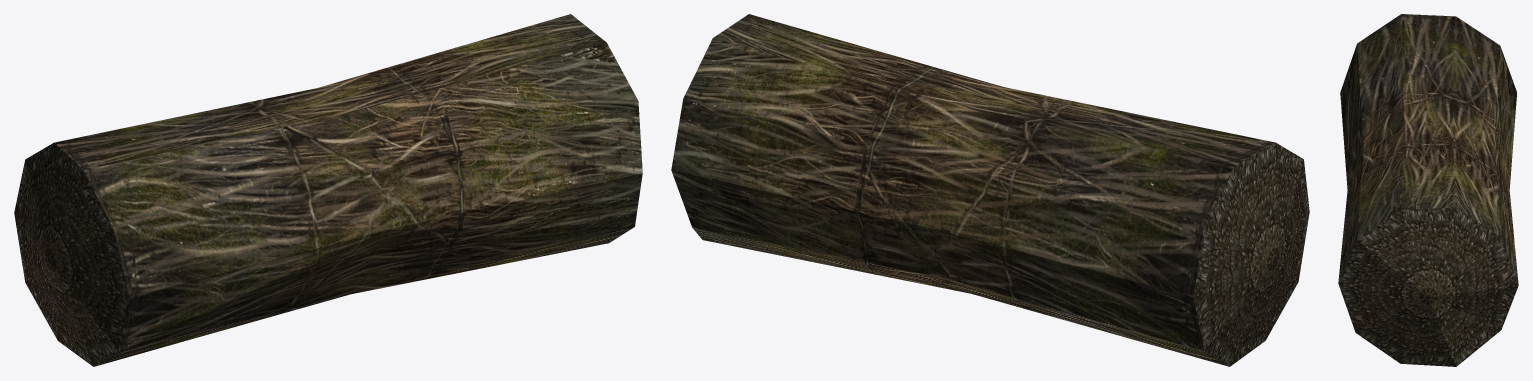
The model's file is camp_woodhut_hake00.fbx.
3 views of the same model, side by side, from view 1: azimuth 30°, elevation 25°; view 2: azimuth 150°, elevation 25°; view 3: azimuth 270°, elevation 25° (orthographic). The views are drawn at different scales.
Parts seen in each view (by area): view 1: thing_hake_roll01; view 2: thing_hake_roll01; view 3: thing_hake_roll01.
Part boxes in pixels (x1,y1,x2,y2): thing_hake_roll01: (14, 14, 642, 366); thing_hake_roll01: (671, 14, 1309, 366); thing_hake_roll01: (1338, 14, 1518, 366).
Bounding box in the file's own units: 3.73 × 1.26 × 1.33.
